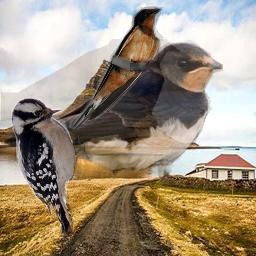Swallow: (1, 39, 223, 181), (68, 5, 164, 130)
Woodpecker: (11, 98, 93, 237)
